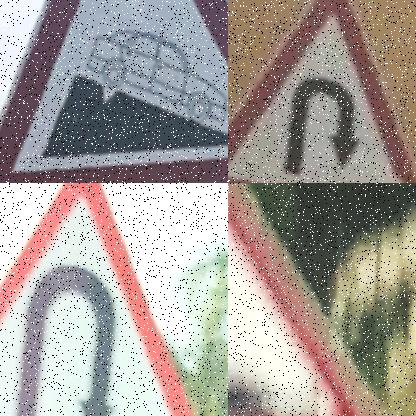Speed Breaker Ahead: (228, 183, 395, 416)
Steep Descent: (0, 0, 228, 183)
U-Turn: (228, 0, 416, 183), (228, 0, 416, 183)
